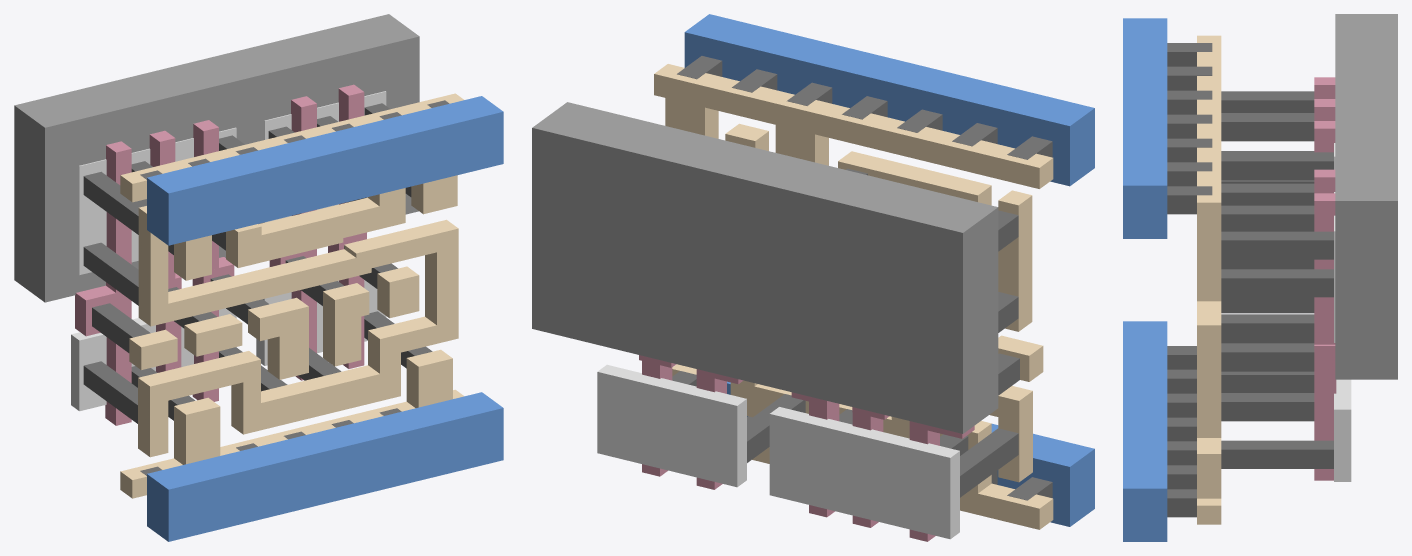
Rendered from sky130_fd_sc_hd__a221oi_1.gds.gltf.
The picture shows the model from 3 angles, left to right: view 1: azimuth 30°, elevation 25°; view 2: azimuth 150°, elevation 25°; view 3: azimuth 270°, elevation 25°; orthographic projection. The views are drawn at different scales.
Visible parts, largest first — view 1: sky130_fd_sc_hd__a221oi_1_li1, sky130_fd_sc_hd__a221oi_1_met1, sky130_fd_sc_hd__a221oi_1_nwell, sky130_fd_sc_hd__a221oi_1_licon, sky130_fd_sc_hd__a221oi_1_poly, sky130_fd_sc_hd__a221oi_1_diff, sky130_fd_sc_hd__a221oi_1_mcon; view 2: sky130_fd_sc_hd__a221oi_1_nwell, sky130_fd_sc_hd__a221oi_1_li1, sky130_fd_sc_hd__a221oi_1_diff, sky130_fd_sc_hd__a221oi_1_met1, sky130_fd_sc_hd__a221oi_1_licon, sky130_fd_sc_hd__a221oi_1_mcon, sky130_fd_sc_hd__a221oi_1_poly; view 3: sky130_fd_sc_hd__a221oi_1_licon, sky130_fd_sc_hd__a221oi_1_nwell, sky130_fd_sc_hd__a221oi_1_met1, sky130_fd_sc_hd__a221oi_1_mcon, sky130_fd_sc_hd__a221oi_1_li1, sky130_fd_sc_hd__a221oi_1_poly, sky130_fd_sc_hd__a221oi_1_diff.
Part boxes in pixels (<box>): sky130_fd_sc_hd__a221oi_1_li1: <box>120,93,463,498</box>; sky130_fd_sc_hd__a221oi_1_met1: <box>147,96,503,541</box>; sky130_fd_sc_hd__a221oi_1_nwell: <box>14,14,419,302</box>; sky130_fd_sc_hd__a221oi_1_licon: <box>83,103,432,423</box>; sky130_fd_sc_hd__a221oi_1_poly: <box>75,84,366,425</box>; sky130_fd_sc_hd__a221oi_1_diff: <box>71,91,386,411</box>; sky130_fd_sc_hd__a221oi_1_mcon: <box>140,100,449,475</box>; sky130_fd_sc_hd__a221oi_1_nwell: <box>532,102,998,433</box>; sky130_fd_sc_hd__a221oi_1_li1: <box>654,64,1053,529</box>; sky130_fd_sc_hd__a221oi_1_diff: <box>597,364,959,539</box>; sky130_fd_sc_hd__a221oi_1_met1: <box>684,14,1094,526</box>; sky130_fd_sc_hd__a221oi_1_licon: <box>672,168,1019,497</box>; sky130_fd_sc_hd__a221oi_1_mcon: <box>677,56,1052,500</box>; sky130_fd_sc_hd__a221oi_1_poly: <box>639,355,974,541</box>; sky130_fd_sc_hd__a221oi_1_licon: <box>1221,91,1333,468</box>; sky130_fd_sc_hd__a221oi_1_nwell: <box>1335,14,1397,379</box>; sky130_fd_sc_hd__a221oi_1_met1: <box>1123,18,1167,541</box>; sky130_fd_sc_hd__a221oi_1_mcon: <box>1167,43,1212,517</box>; sky130_fd_sc_hd__a221oi_1_li1: <box>1197,35,1221,524</box>; sky130_fd_sc_hd__a221oi_1_poly: <box>1314,77,1336,480</box>; sky130_fd_sc_hd__a221oi_1_diff: <box>1334,143,1351,481</box>.
Size of the model in its own units: 3.6 by 3.2 by 2.24.
